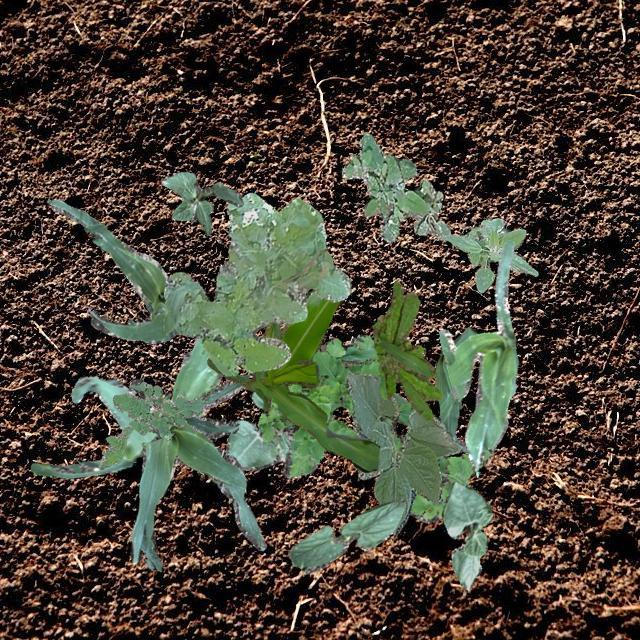crop: (206, 289, 378, 472), (29, 334, 221, 478), (128, 374, 266, 570), (344, 372, 462, 534), (47, 198, 177, 344), (438, 238, 518, 470), (288, 498, 404, 572), (442, 216, 536, 292), (441, 480, 492, 590), (434, 326, 476, 452), (224, 390, 288, 470), (161, 172, 243, 234), (328, 392, 408, 422)
weed: (258, 334, 492, 522), (163, 192, 350, 374), (340, 132, 450, 242), (372, 280, 441, 418), (98, 382, 204, 466)
